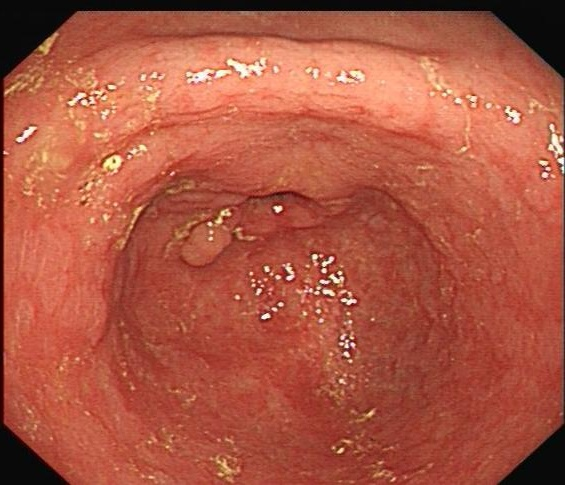Polyp: (146, 203, 256, 299)
